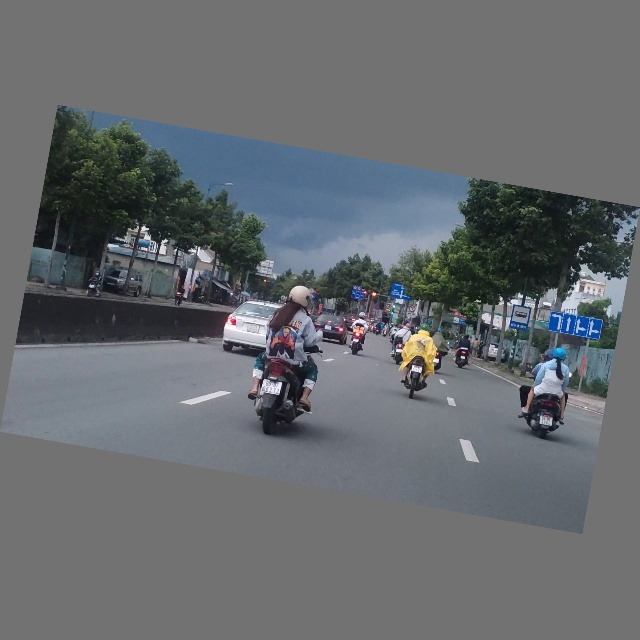I.434a: (509, 305, 532, 331)
P.137: (409, 306, 416, 313)
